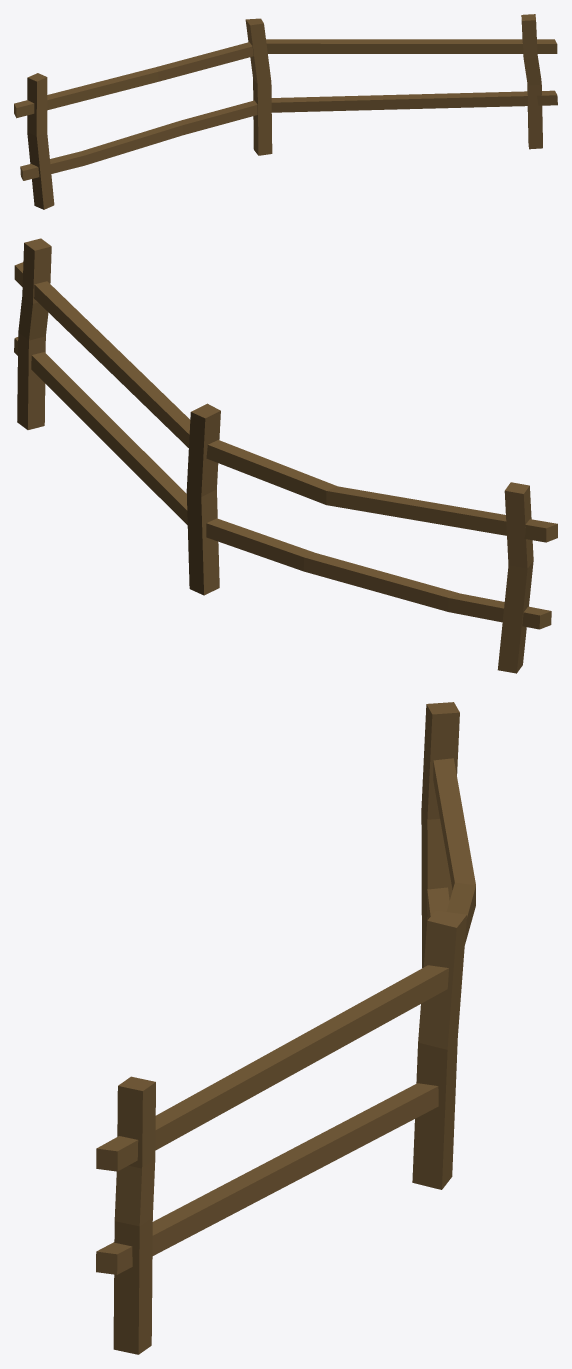
Rendered from Fence.fbx.
3 views of the same model, one above another, from view 1: azimuth 30°, elevation 25°; view 2: azimuth 150°, elevation 25°; view 3: azimuth 270°, elevation 25° (orthographic). The views are drawn at different scales.
Visible parts, largest first — view 1: Fence 1; view 2: Fence 1; view 3: Fence 1.
Boxes of the visible parts, left/top/right/bottom form: Fence 1: left=14, top=14, right=557, bottom=209; Fence 1: left=14, top=238, right=557, bottom=673; Fence 1: left=96, top=702, right=475, bottom=1354.
Bounding box in the file's own units: 191 × 56.99 × 68.02.
